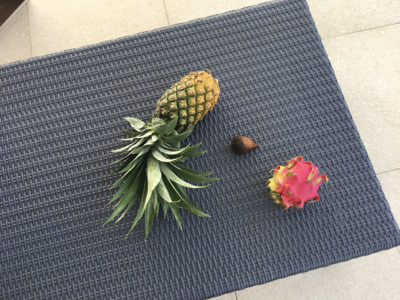dragon fruit: (267, 155, 330, 211)
pineapple: (104, 71, 221, 238)
snake fruit: (231, 133, 260, 155)
